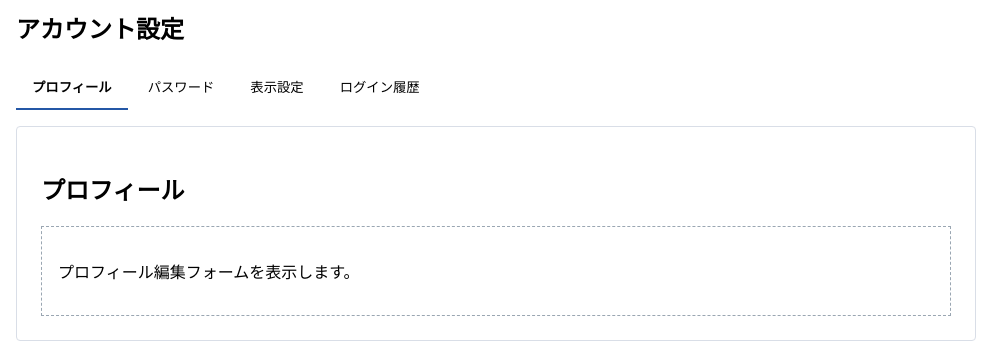
Test: SettingsPage › タブを切り替えると選択中のパネルだけを表示する
Click the tab "表示設定": (277, 87) [234,65,320,110]
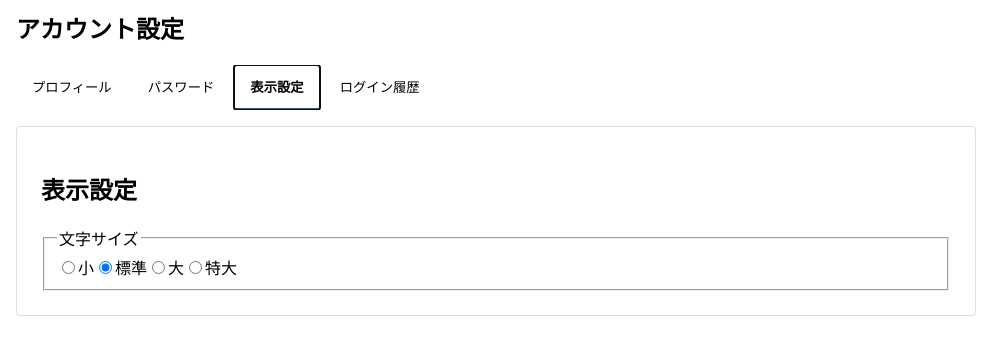
Expected: the text "プロフィール編集フォーム" is gone
